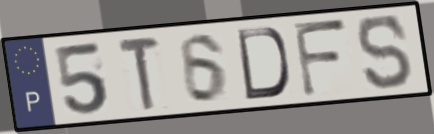5: (52, 39, 112, 117)
6: (176, 32, 232, 105)
D: (234, 25, 293, 102)
F: (290, 18, 351, 100)
S: (355, 12, 416, 92)
T: (115, 35, 164, 112)
